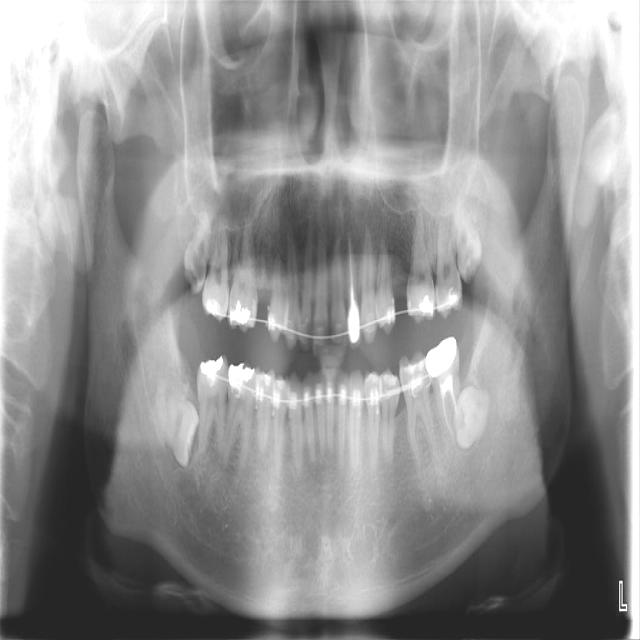Crown: (426, 336, 460, 388), (348, 305, 361, 343)
Root Canal Treatment: (348, 244, 358, 309), (442, 399, 451, 432)
impacted tooth: (149, 387, 200, 465), (455, 192, 482, 280), (453, 384, 492, 441)
